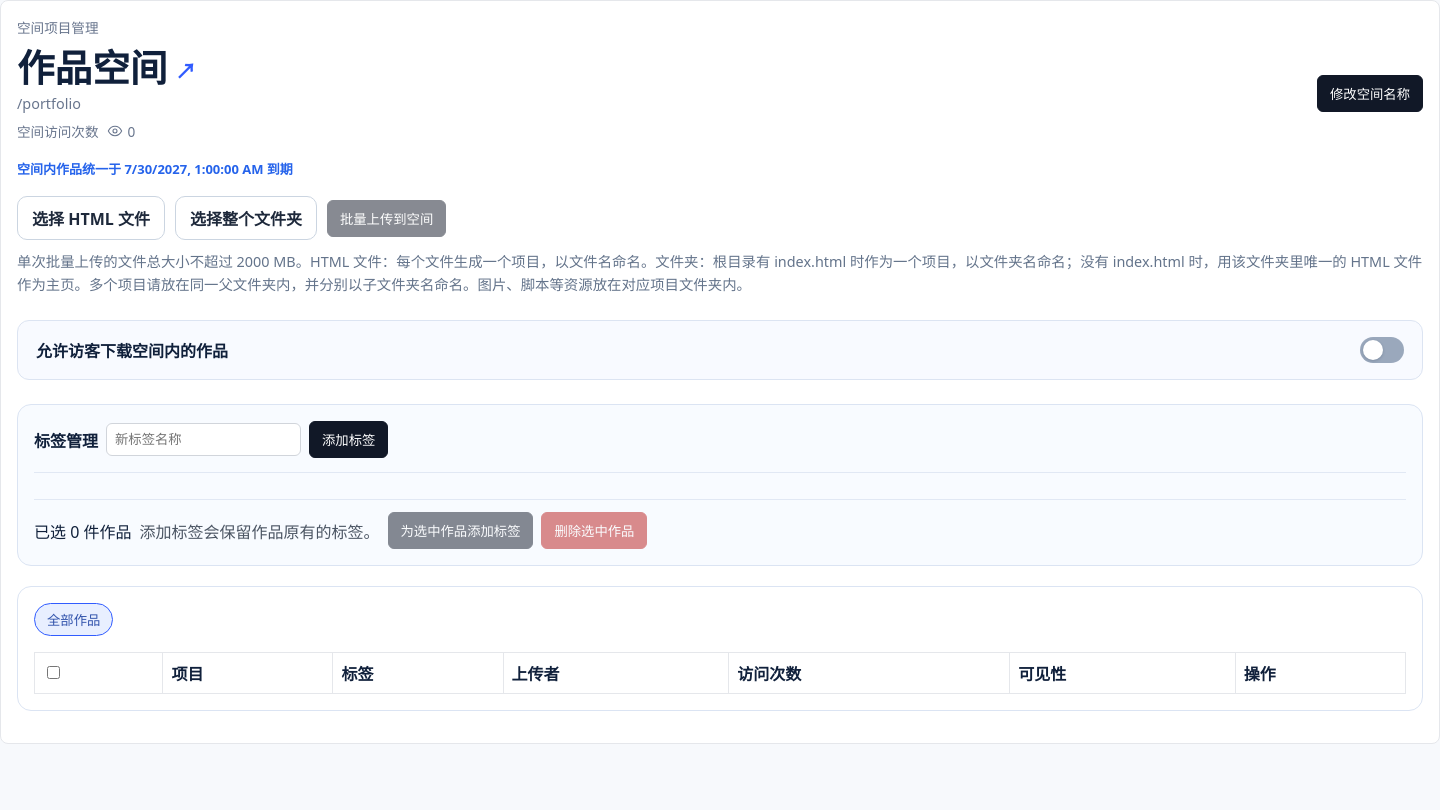
Test: SpacePage › lets the space creator change the space name
Click the button "修改空间名称" at (1370, 93), box top-left (1317, 74), bottom-right (1423, 112)
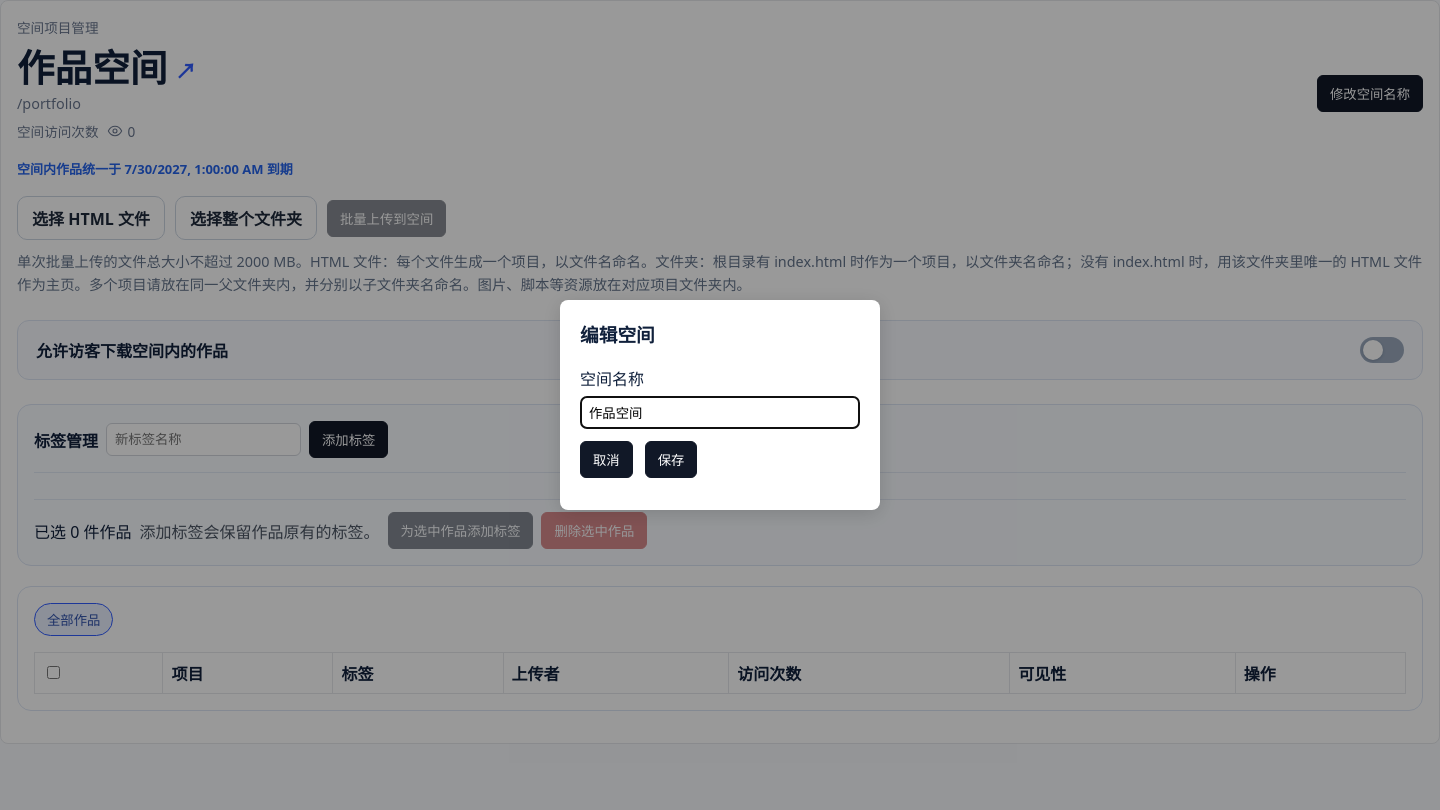
Replace the text in the field labelled "空间名称" with "新空间" at (720, 412), box top-left (580, 396), bottom-right (860, 429)
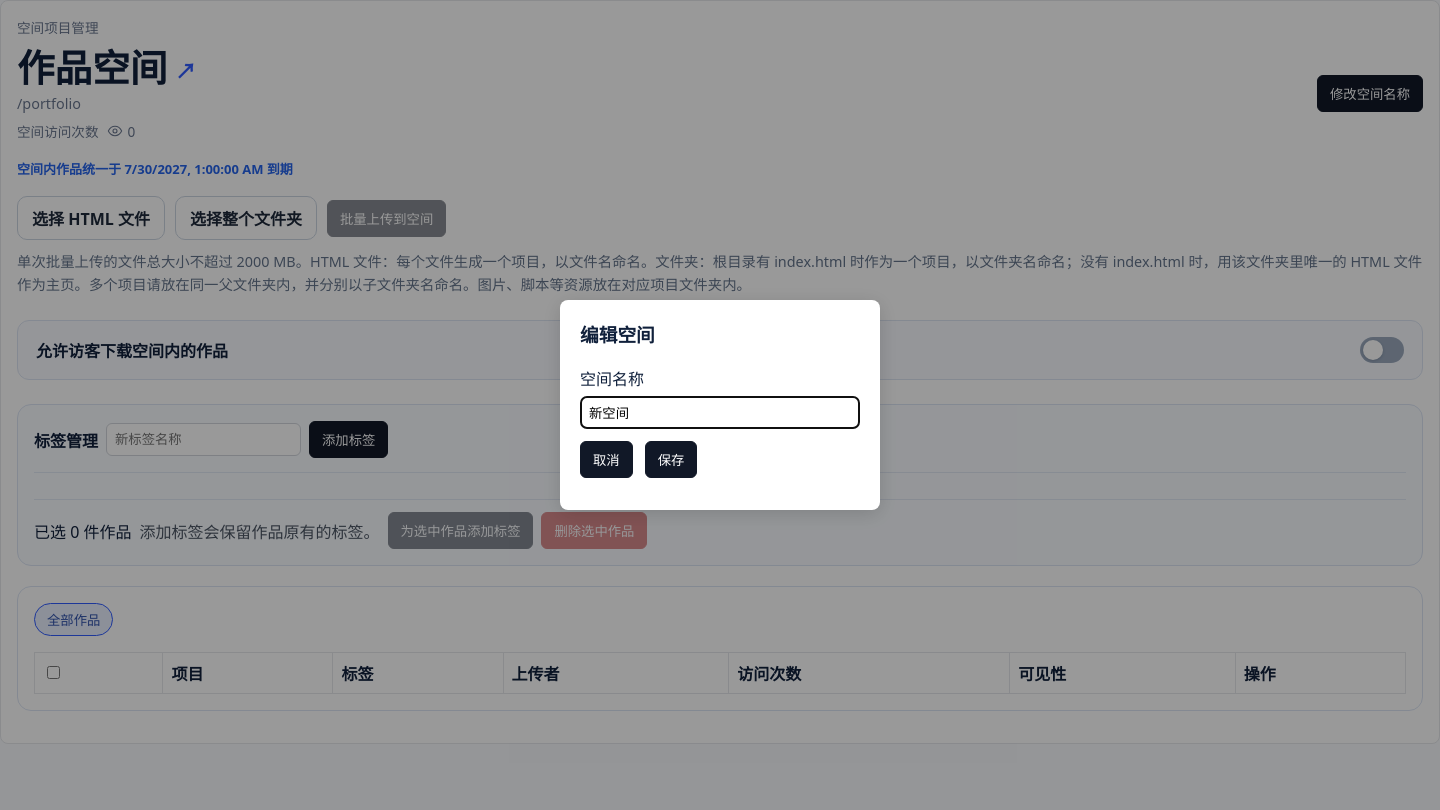
Click the button "保存" at (671, 459), box top-left (645, 441), bottom-right (697, 478)
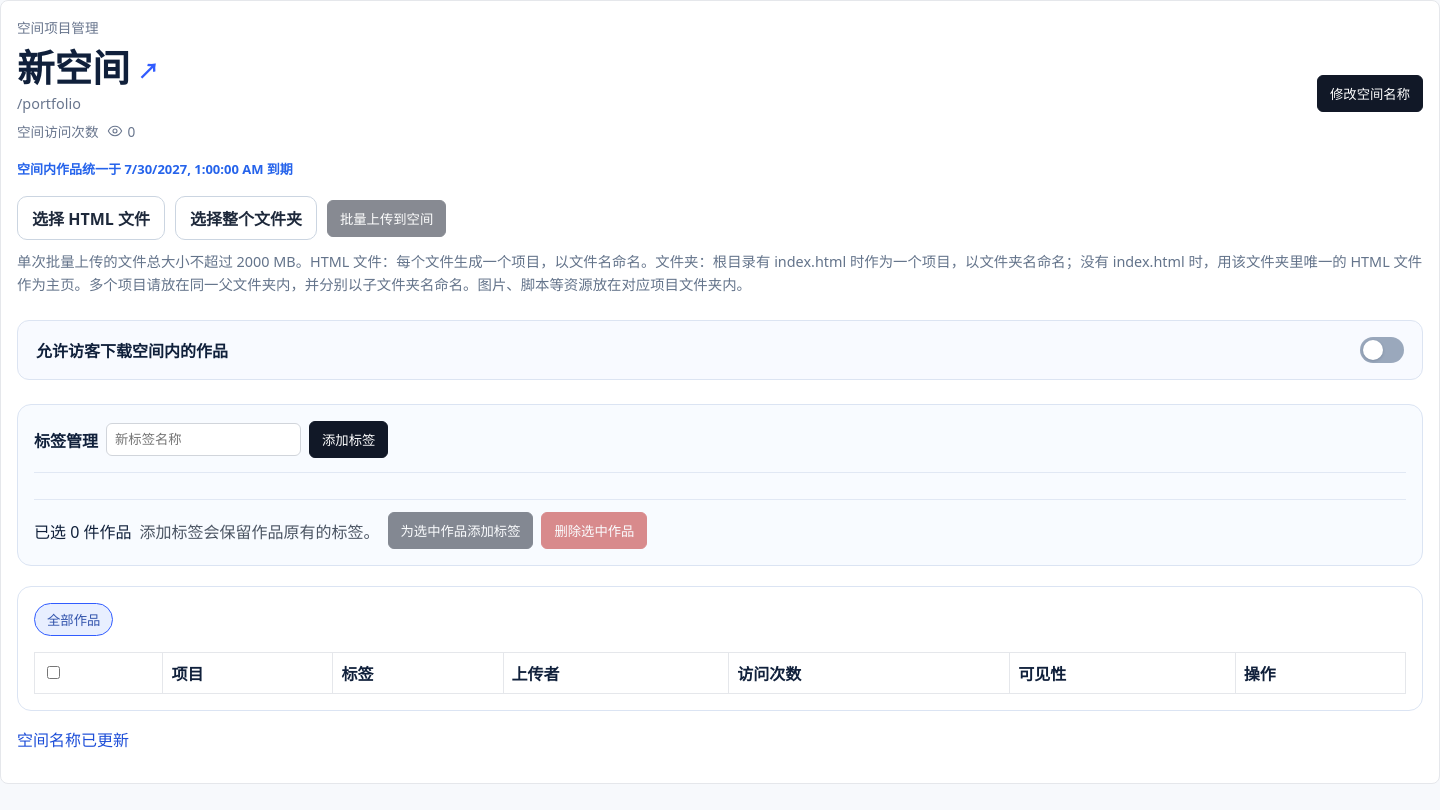
Result: the link "新空间" is shown at top-left (17, 42), bottom-right (130, 93)
